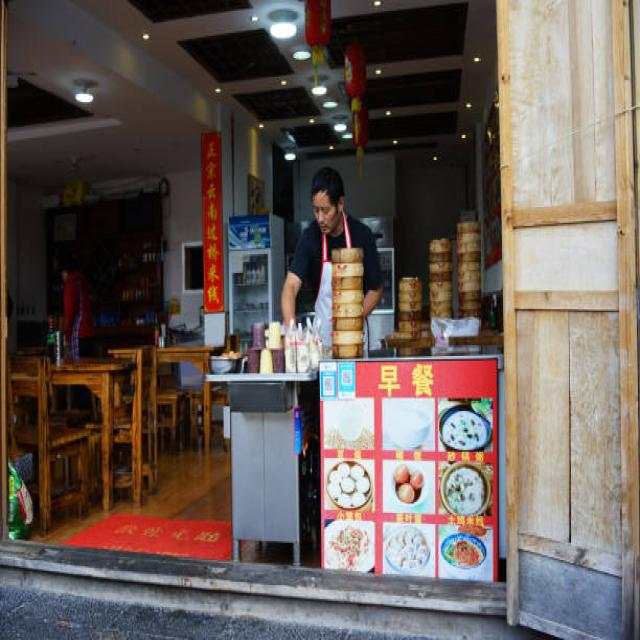Emperan: (135, 100, 611, 640)
